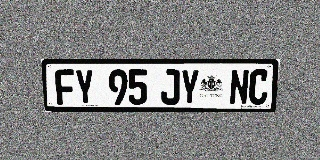5: (128, 69, 147, 105)
9: (108, 69, 128, 105)
C: (248, 69, 269, 105)
F: (54, 69, 76, 105)
J: (161, 69, 180, 105)
N: (229, 69, 250, 105)
Y: (74, 69, 95, 105), (180, 69, 199, 105)
